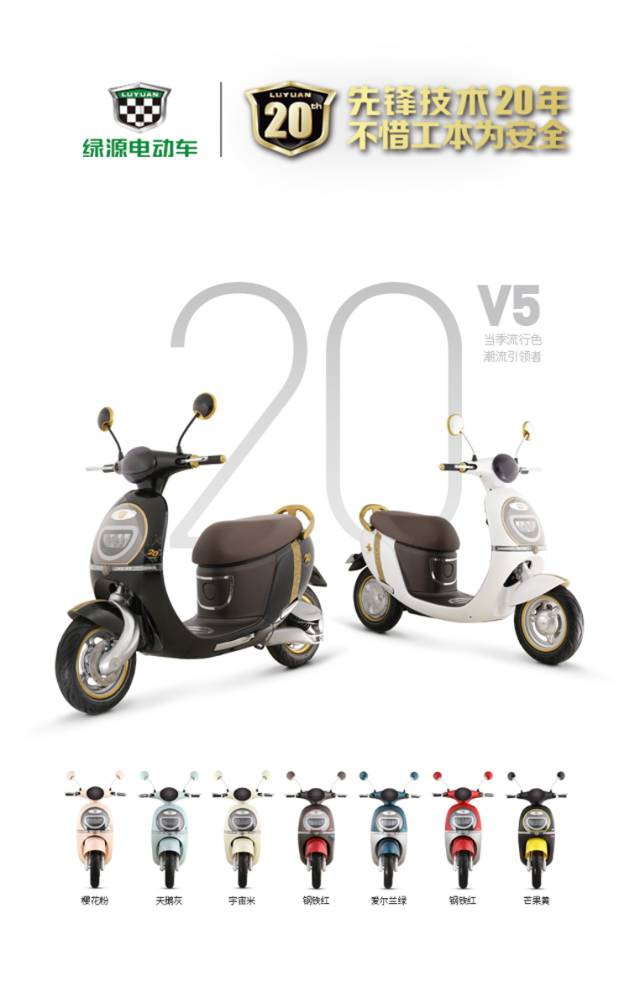non-vehicle: (51, 436, 325, 714), (349, 423, 583, 678), (356, 765, 424, 894), (429, 768, 502, 888), (211, 767, 281, 891), (137, 768, 206, 893), (506, 768, 574, 892), (56, 772, 127, 888), (283, 765, 345, 894)
